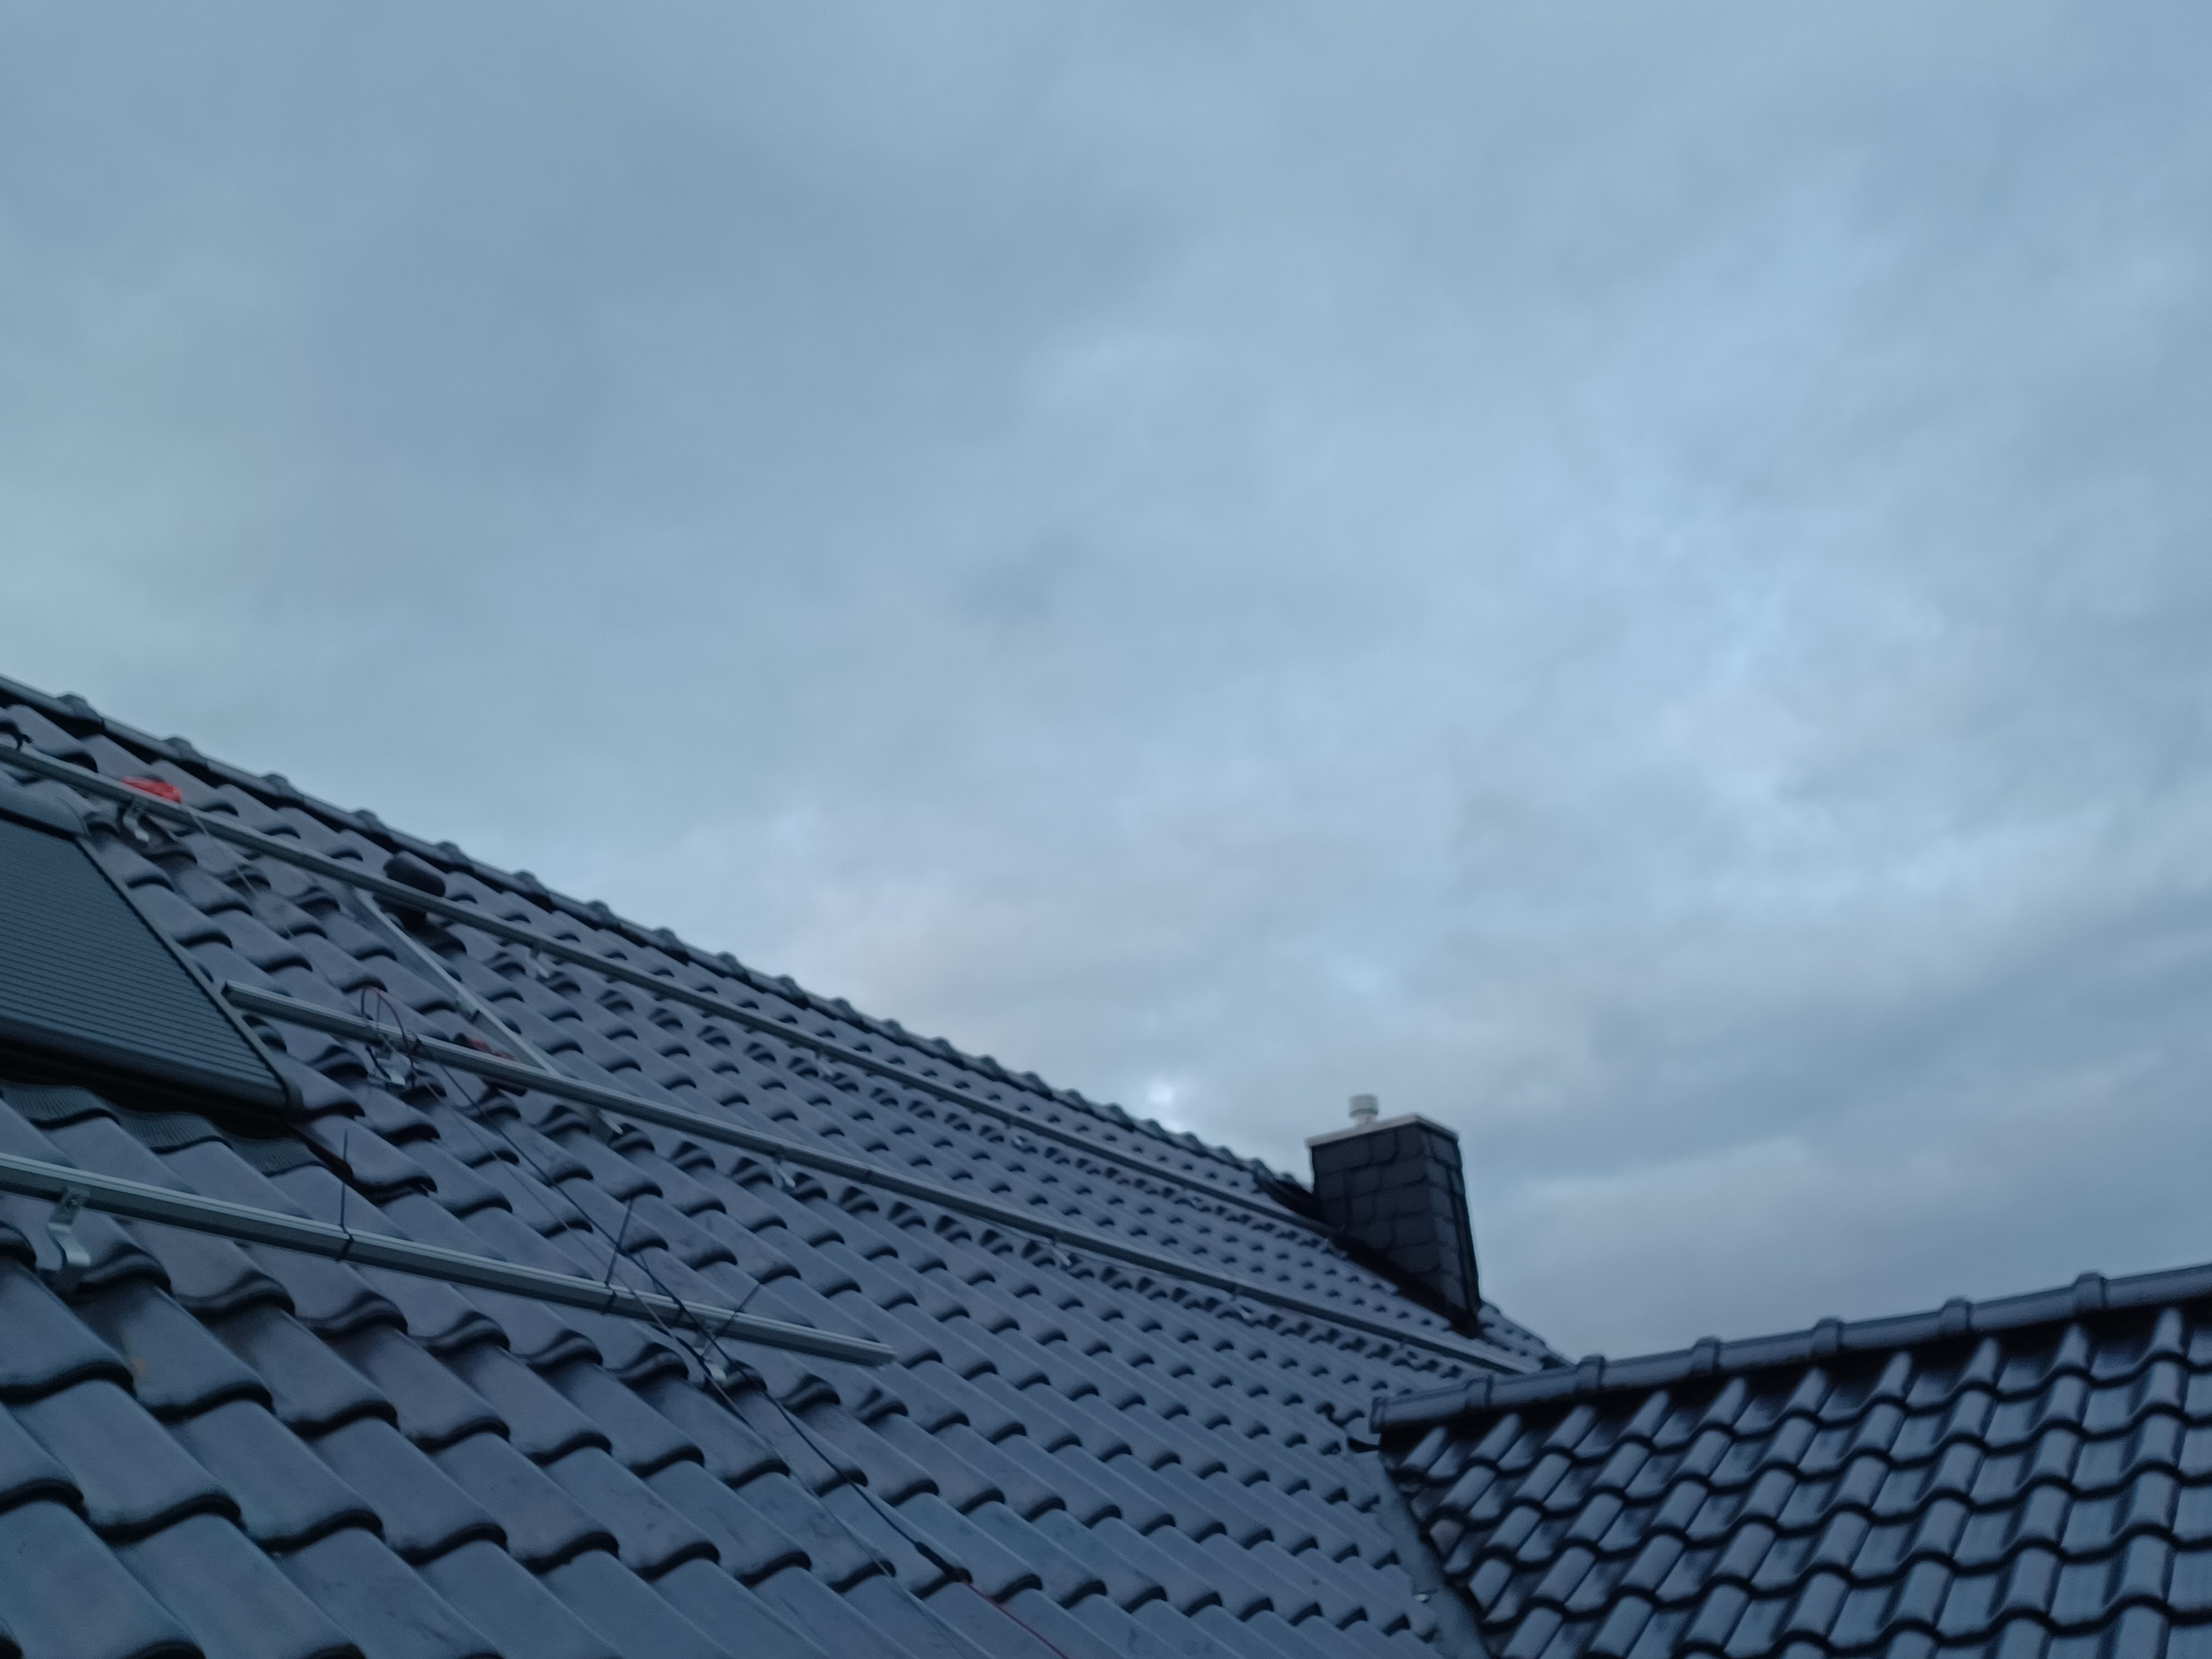hook: (44, 1187, 91, 1297), (691, 1319, 726, 1394), (374, 1039, 406, 1096), (122, 796, 150, 843), (772, 1147, 796, 1192), (1230, 1284, 1256, 1324), (526, 941, 550, 983), (1049, 1230, 1073, 1270), (1397, 1335, 1421, 1370), (815, 1047, 833, 1080), (1007, 1117, 1022, 1148)
